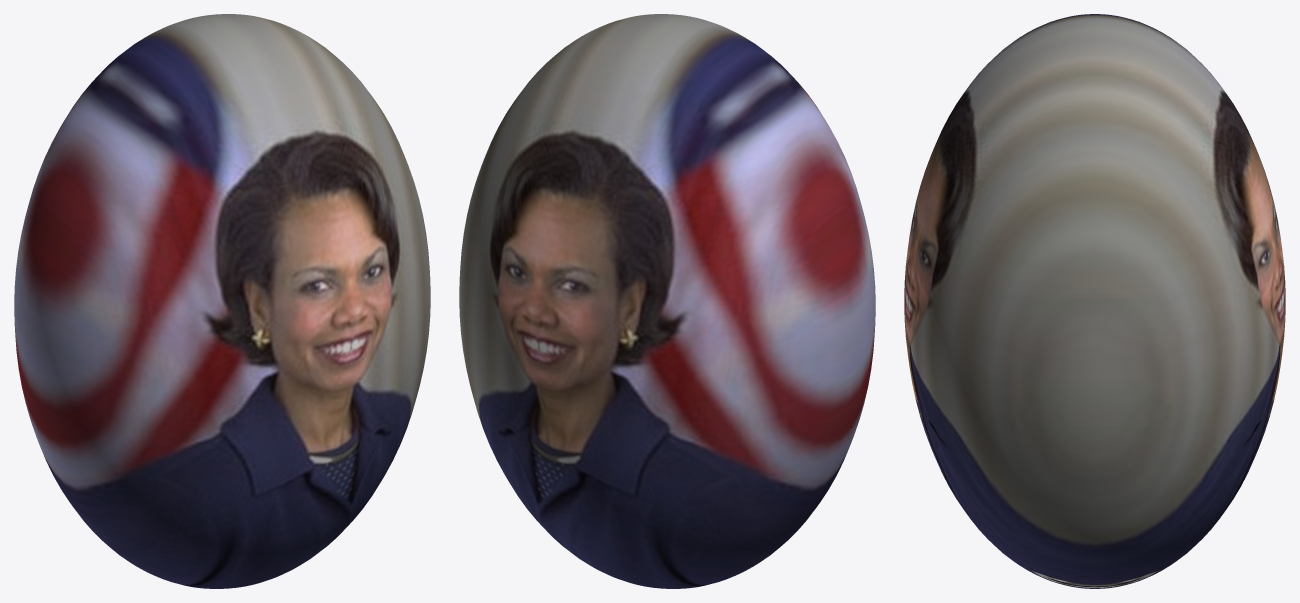
3 views of the same model, side by side, from view 1: azimuth 30°, elevation 25°; view 2: azimuth 150°, elevation 25°; view 3: azimuth 270°, elevation 25° (orthographic).
Parts seen in each view (by area): view 1: head; view 2: head; view 3: head.
Boxes of the visible parts, bbox=[...] form: head: bbox=[14, 14, 430, 588]; head: bbox=[459, 14, 875, 588]; head: bbox=[904, 14, 1285, 588].
Size of the model in its own units: 1.41 by 2 by 1.27.
1 material, 1 textured.
